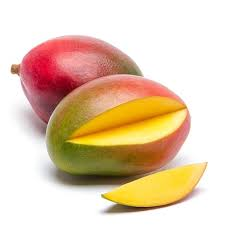mango: (39, 74, 192, 159), (92, 161, 219, 207)
